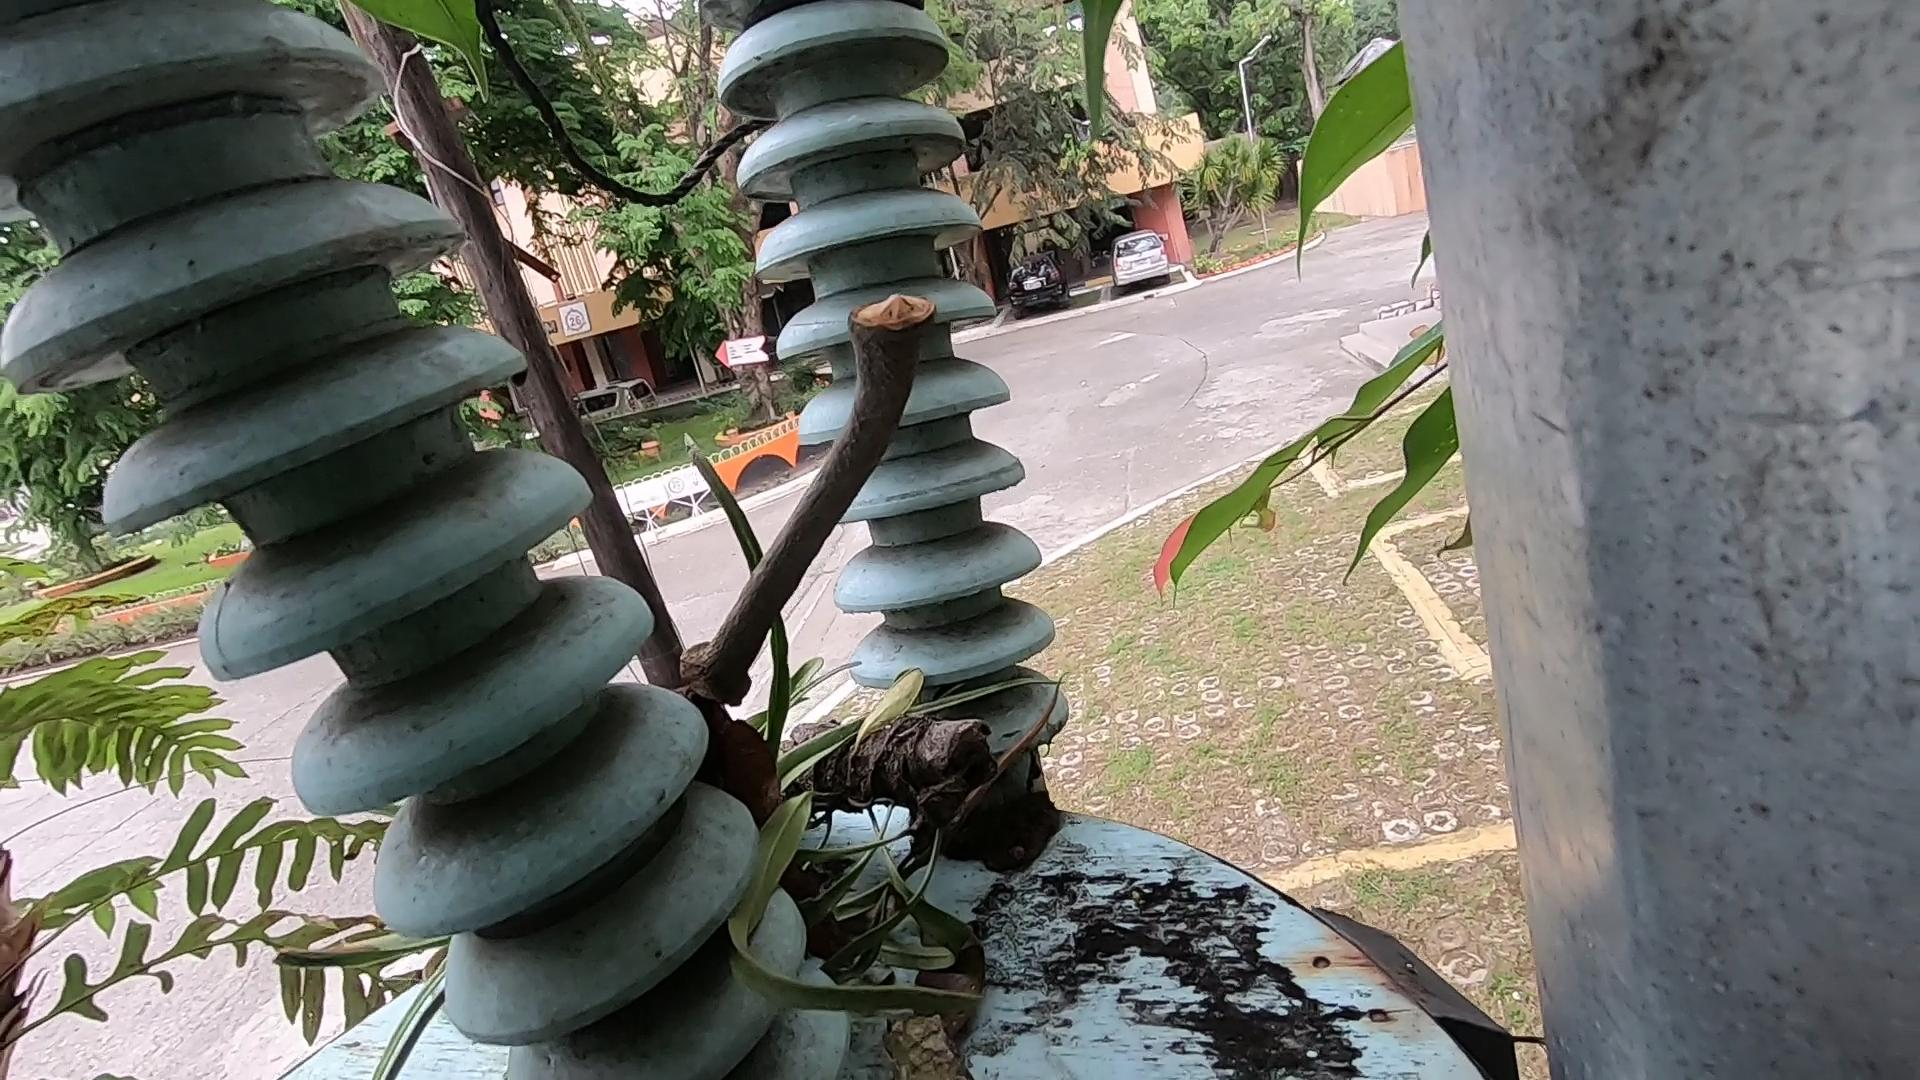branch with leaves: (632, 251, 976, 769)
tree branch: (678, 582, 1043, 1080)
